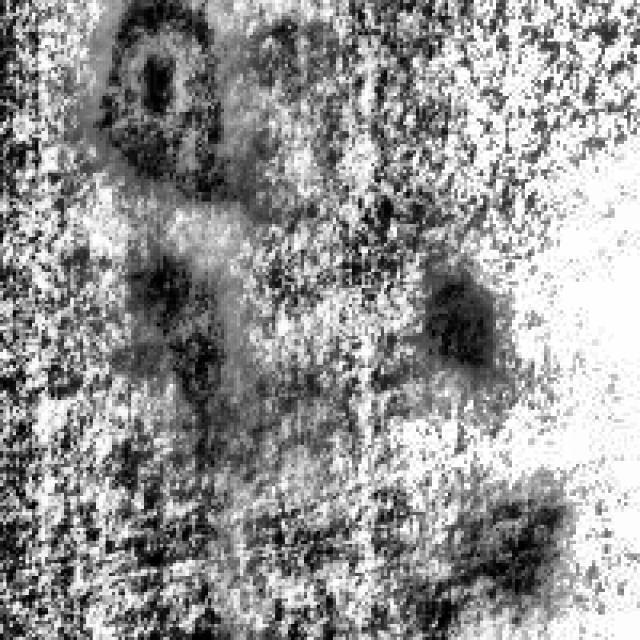Scratches: (86, 0, 230, 198), (128, 246, 234, 444), (422, 268, 496, 374)
